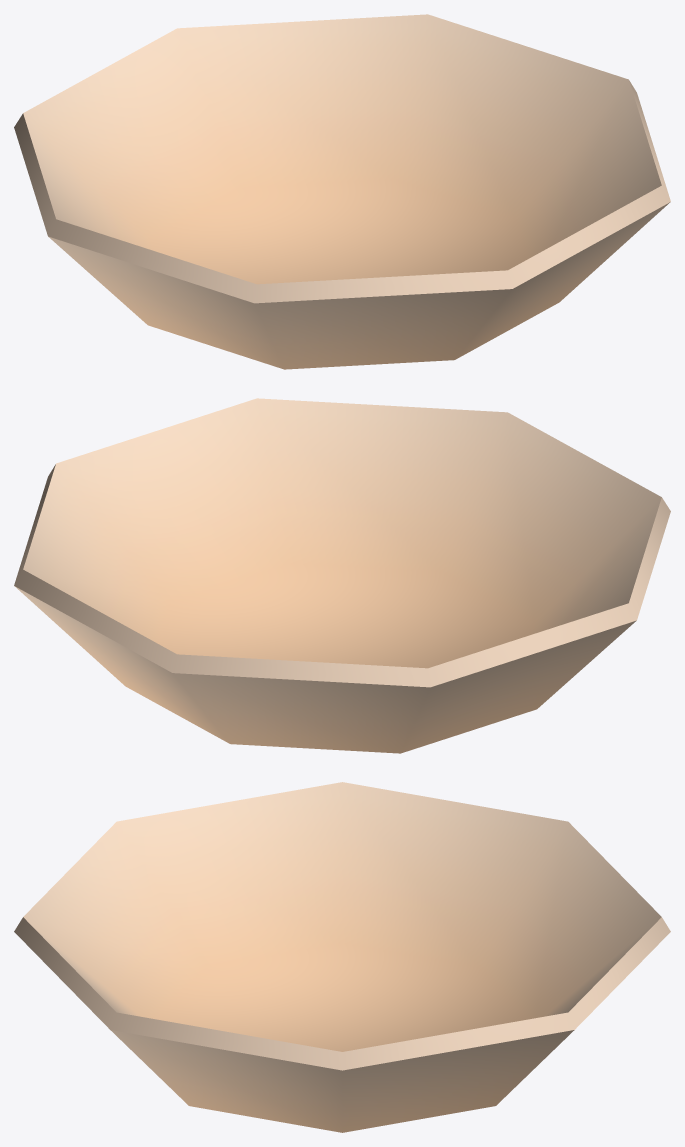
The model's file is Dish6.fbx.
The picture shows the model from 3 angles, top to bottom: view 1: azimuth 30°, elevation 25°; view 2: azimuth 150°, elevation 25°; view 3: azimuth 270°, elevation 25°; orthographic projection. The views are drawn at different scales.
Parts seen in each view (by area): view 1: Dish6; view 2: Dish6; view 3: Dish6.
Part boxes in pixels (box(x1,y1,x2,y2)): Dish6: box(14, 14, 670, 369); Dish6: box(14, 398, 670, 753); Dish6: box(14, 782, 670, 1132).
Bounding box in the file's own units: 75.68 × 15.78 × 75.68.
